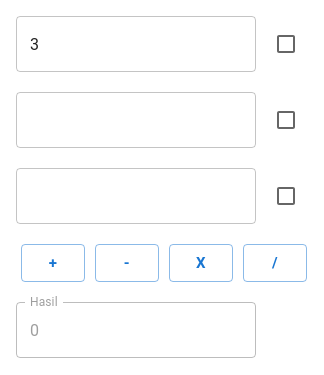
Test: Divided operation › action divide 3 number
Replace the text in the number field named "numbers0" with "5". click: point(136, 44)
box: left=16, top=16, right=256, bottom=72
Type "5" into the number field named "numbers1". click: point(136, 120)
box: left=16, top=92, right=256, bottom=148
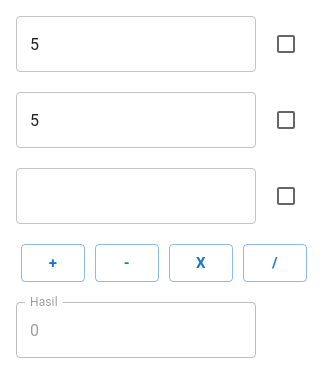
Type "1" into the number field named "numbers2". click: point(136, 196)
box: left=16, top=168, right=256, bottom=224
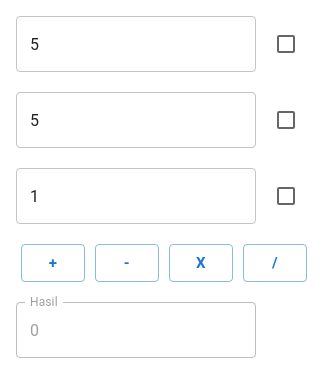
Click the checkbox named "checks0". click: point(286, 44)
box: left=274, top=32, right=298, bottom=56
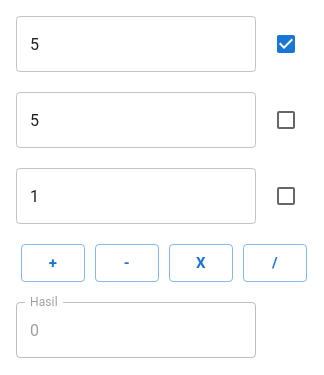
Click the checkbox named "checks1". click: point(286, 120)
box: left=274, top=108, right=298, bottom=132
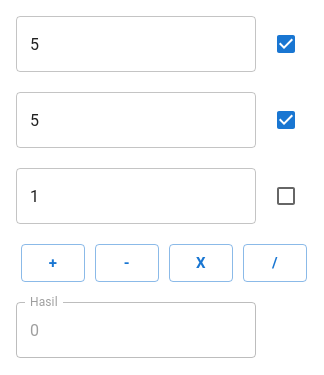
Click the checkbox named "checks2". click: point(286, 196)
box: left=274, top=184, right=298, bottom=208
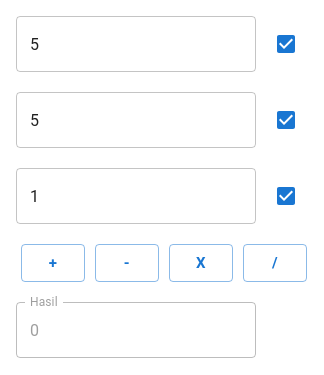
Click the button named "button-distribute". click: point(275, 263)
box: left=243, top=244, right=307, bottom=282
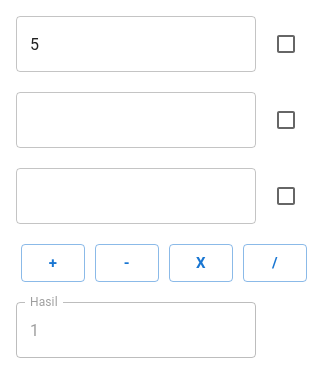
Expected: the field named "result" holds "1", left=16, top=302, right=256, bottom=358
